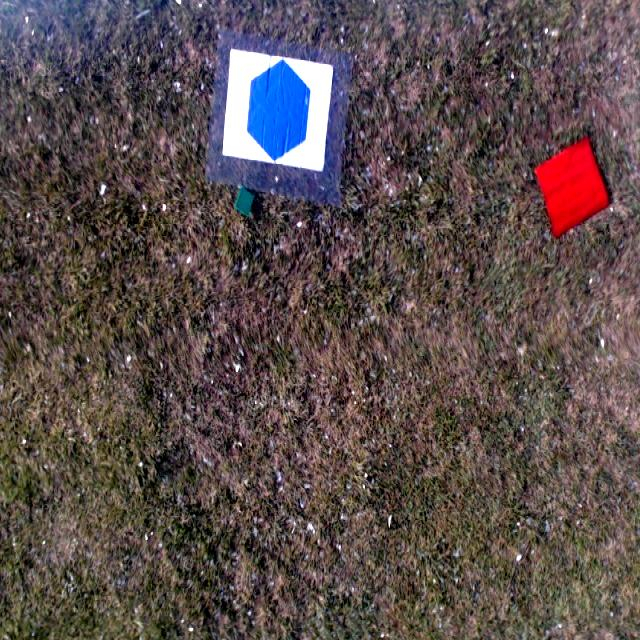blue_hexagon: (245, 56, 310, 163)
red_square: (536, 138, 611, 235)
